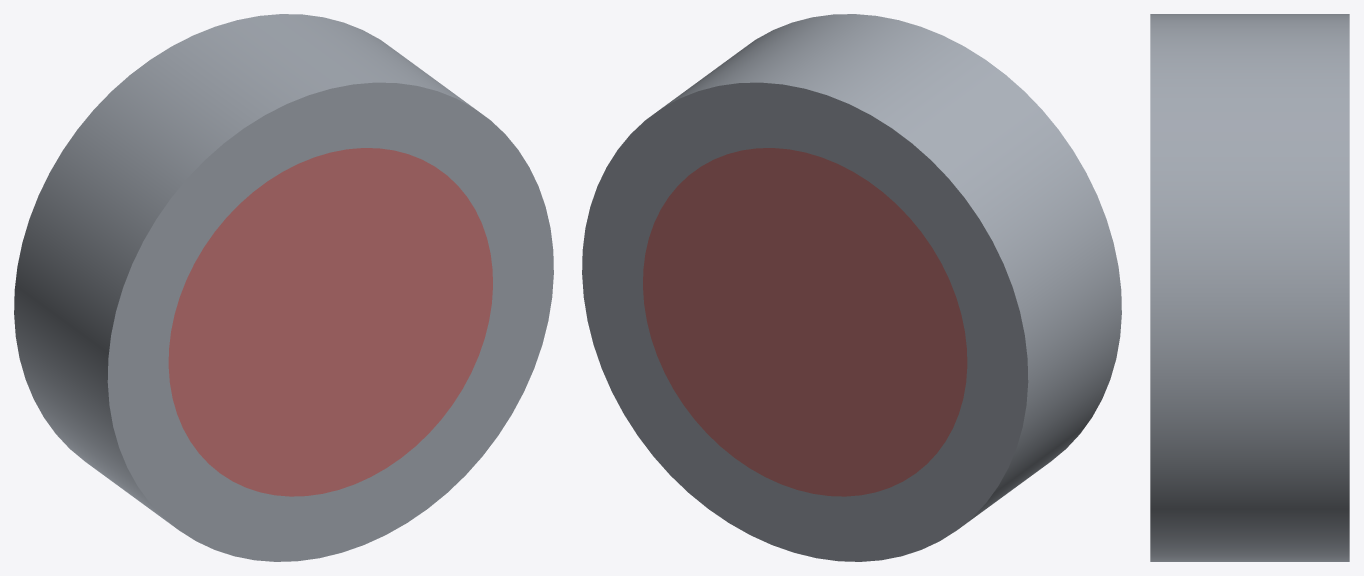
Rendered from step_02.glb.
3 views of the same model, side by side, from view 1: azimuth 30°, elevation 25°; view 2: azimuth 150°, elevation 25°; view 3: azimuth 270°, elevation 25° (orthographic). The views are drawn at different scales.
Visible parts, largest first — view 1: part__Housing, removed__Housing; view 2: part__Housing, removed__Housing; view 3: part__Housing.
Boxes of the visible parts, left/top/right/bottom form: part__Housing: left=14, top=14, right=553, bottom=561; removed__Housing: left=168, top=148, right=492, bottom=496; part__Housing: left=582, top=14, right=1121, bottom=561; removed__Housing: left=643, top=148, right=967, bottom=496; part__Housing: left=1150, top=14, right=1349, bottom=561.
Bounding box in the file's own units: 110 × 110 × 40.
